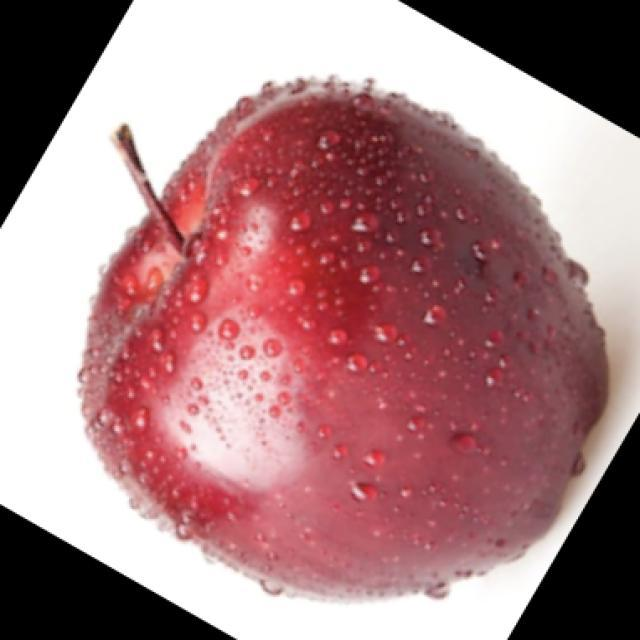Apple: (77, 73, 610, 603)
